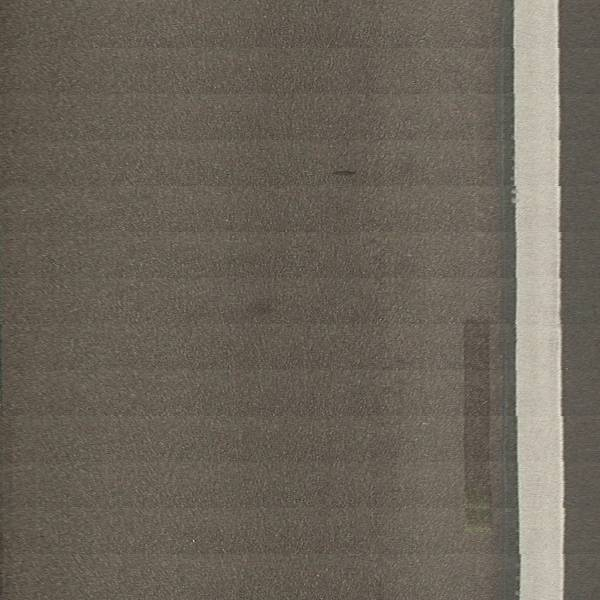road_damage: (331, 167, 360, 181)
